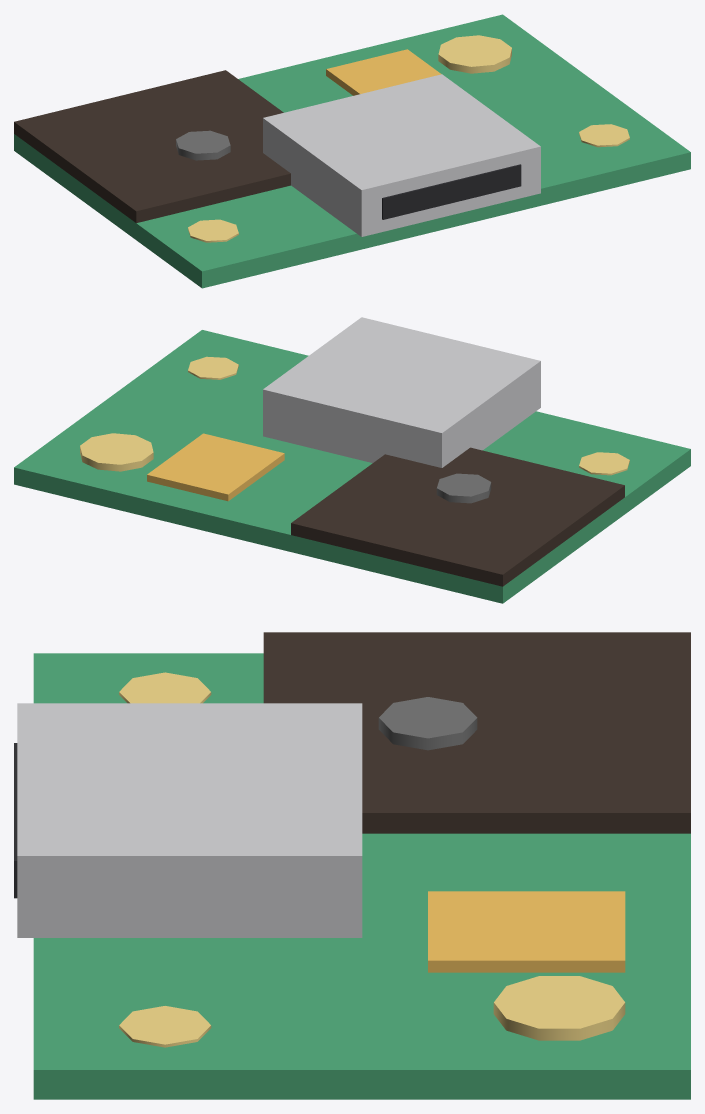
The model's file is phone-port-bad.glb.
3 views of the same model, one above another, from view 1: azimuth 30°, elevation 25°; view 2: azimuth 150°, elevation 25°; view 3: azimuth 270°, elevation 25° (orthographic). The views are drawn at different scales.
Parts seen in each view (by area): view 1: module; view 2: module; view 3: module.
Part boxes in pixels (x1,y1,x2,y2): module: (14,14,690,288); module: (14,317,690,603); module: (14,632,690,1099).
Bounding box in the file's own units: 0.06 × 0.0075 × 0.0412.
